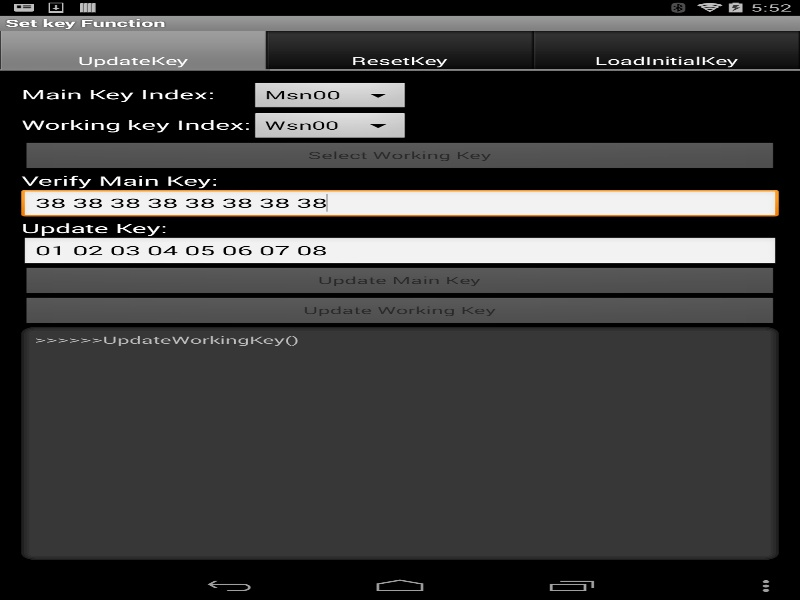Button: (21, 141, 778, 171), (21, 266, 778, 296), (21, 296, 778, 326)
Input: (21, 189, 778, 219), (21, 236, 778, 266)
